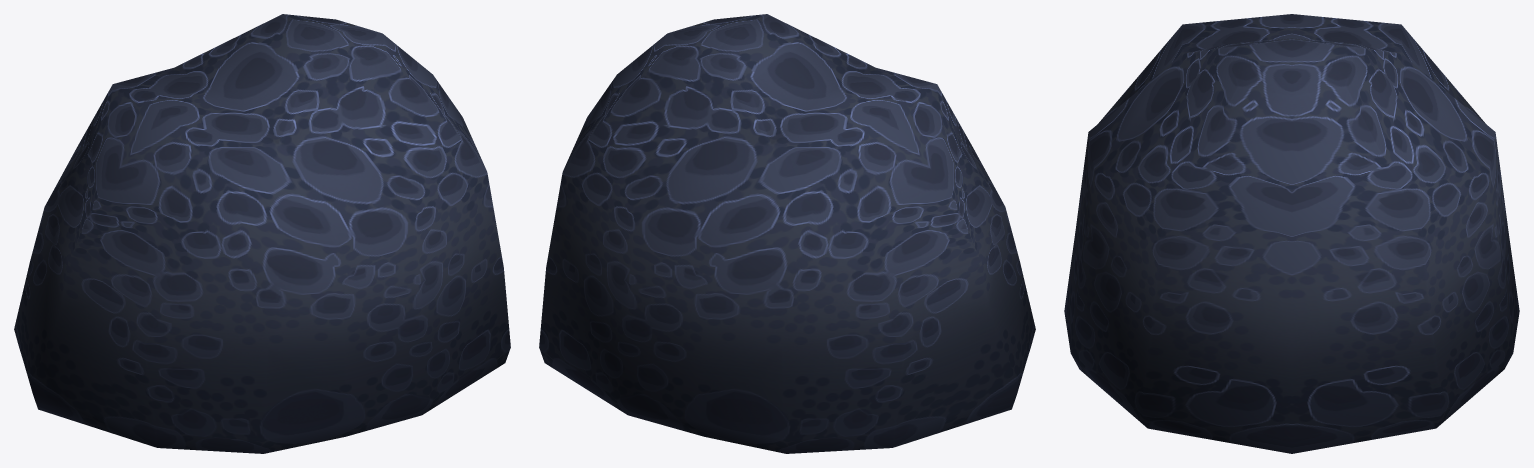
Rendered from Rock_02b.FBX.
3 renders of one model, left to right at view 1: azimuth 30°, elevation 25°; view 2: azimuth 150°, elevation 25°; view 3: azimuth 270°, elevation 25°, orthographic. The views are drawn at different scales.
Visible parts, largest first — view 1: Rock_02b; view 2: Rock_02b; view 3: Rock_02b.
Part boxes in pixels (left/top/right/bottom): Rock_02b: left=14, top=14, right=510, bottom=453; Rock_02b: left=539, top=14, right=1035, bottom=453; Rock_02b: left=1064, top=14, right=1519, bottom=453.
Bounding box in the file's own units: 94.49 × 61.52 × 78.16.
